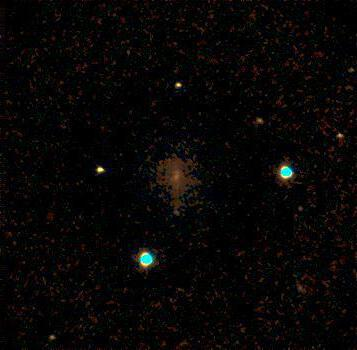star: (38, 323, 68, 350)
